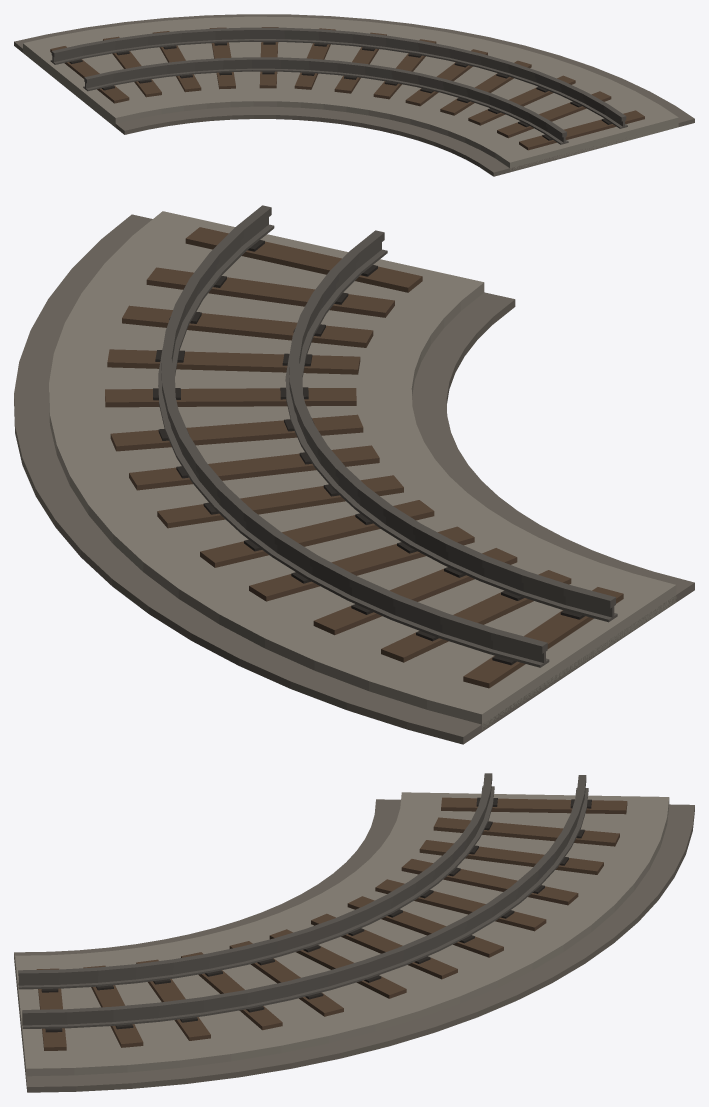
Rendered from rieles-riel-curva.glb.
The picture shows the model from 3 angles, top to bottom: view 1: azimuth 30°, elevation 25°; view 2: azimuth 150°, elevation 25°; view 3: azimuth 270°, elevation 25°; orthographic projection. The views are drawn at different scales.
Visible parts, largest first — view 1: riel_curva_Balasto, riel_curva_Riel, riel_curva_Durmiente, riel_curva_BalastoHombro, riel_curva_PlacaApoyo; view 2: riel_curva_Balasto, riel_curva_Durmiente, riel_curva_BalastoHombro, riel_curva_Riel, riel_curva_PlacaApoyo; view 3: riel_curva_Balasto, riel_curva_Riel, riel_curva_BalastoHombro, riel_curva_Durmiente, riel_curva_PlacaApoyo.
Boxes of the visible parts, x1=… form: riel_curva_Balasto: x1=23, y1=16, x2=678, y2=171; riel_curva_Riel: x1=50, y1=27, x2=627, y2=144; riel_curva_Durmiente: x1=50, y1=27, x2=644, y2=150; riel_curva_BalastoHombro: x1=14, y1=14, x2=694, y2=176; riel_curva_PlacaApoyo: x1=69, y1=42, x2=611, y2=140; riel_curva_Balasto: x1=49, y1=211, x2=676, y2=729; riel_curva_Durmiente: x1=105, y1=227, x2=623, y2=688; riel_curva_BalastoHombro: x1=14, y1=214, x2=694, y2=744; riel_curva_Riel: x1=158, y1=205, x2=617, y2=667; riel_curva_PlacaApoyo: x1=153, y1=240, x2=584, y2=665; riel_curva_Balasto: x1=15, y1=792, x2=669, y2=1076; riel_curva_Riel: x1=18, y1=773, x2=588, y2=1028; riel_curva_BalastoHombro: x1=14, y1=799, x2=694, y2=1092; riel_curva_Durmiente: x1=36, y1=797, x2=627, y2=1050; riel_curva_PlacaApoyo: x1=41, y1=797, x2=591, y2=1032.
Size of the model in its own units: 6.61 by 0.36 by 6.61.
